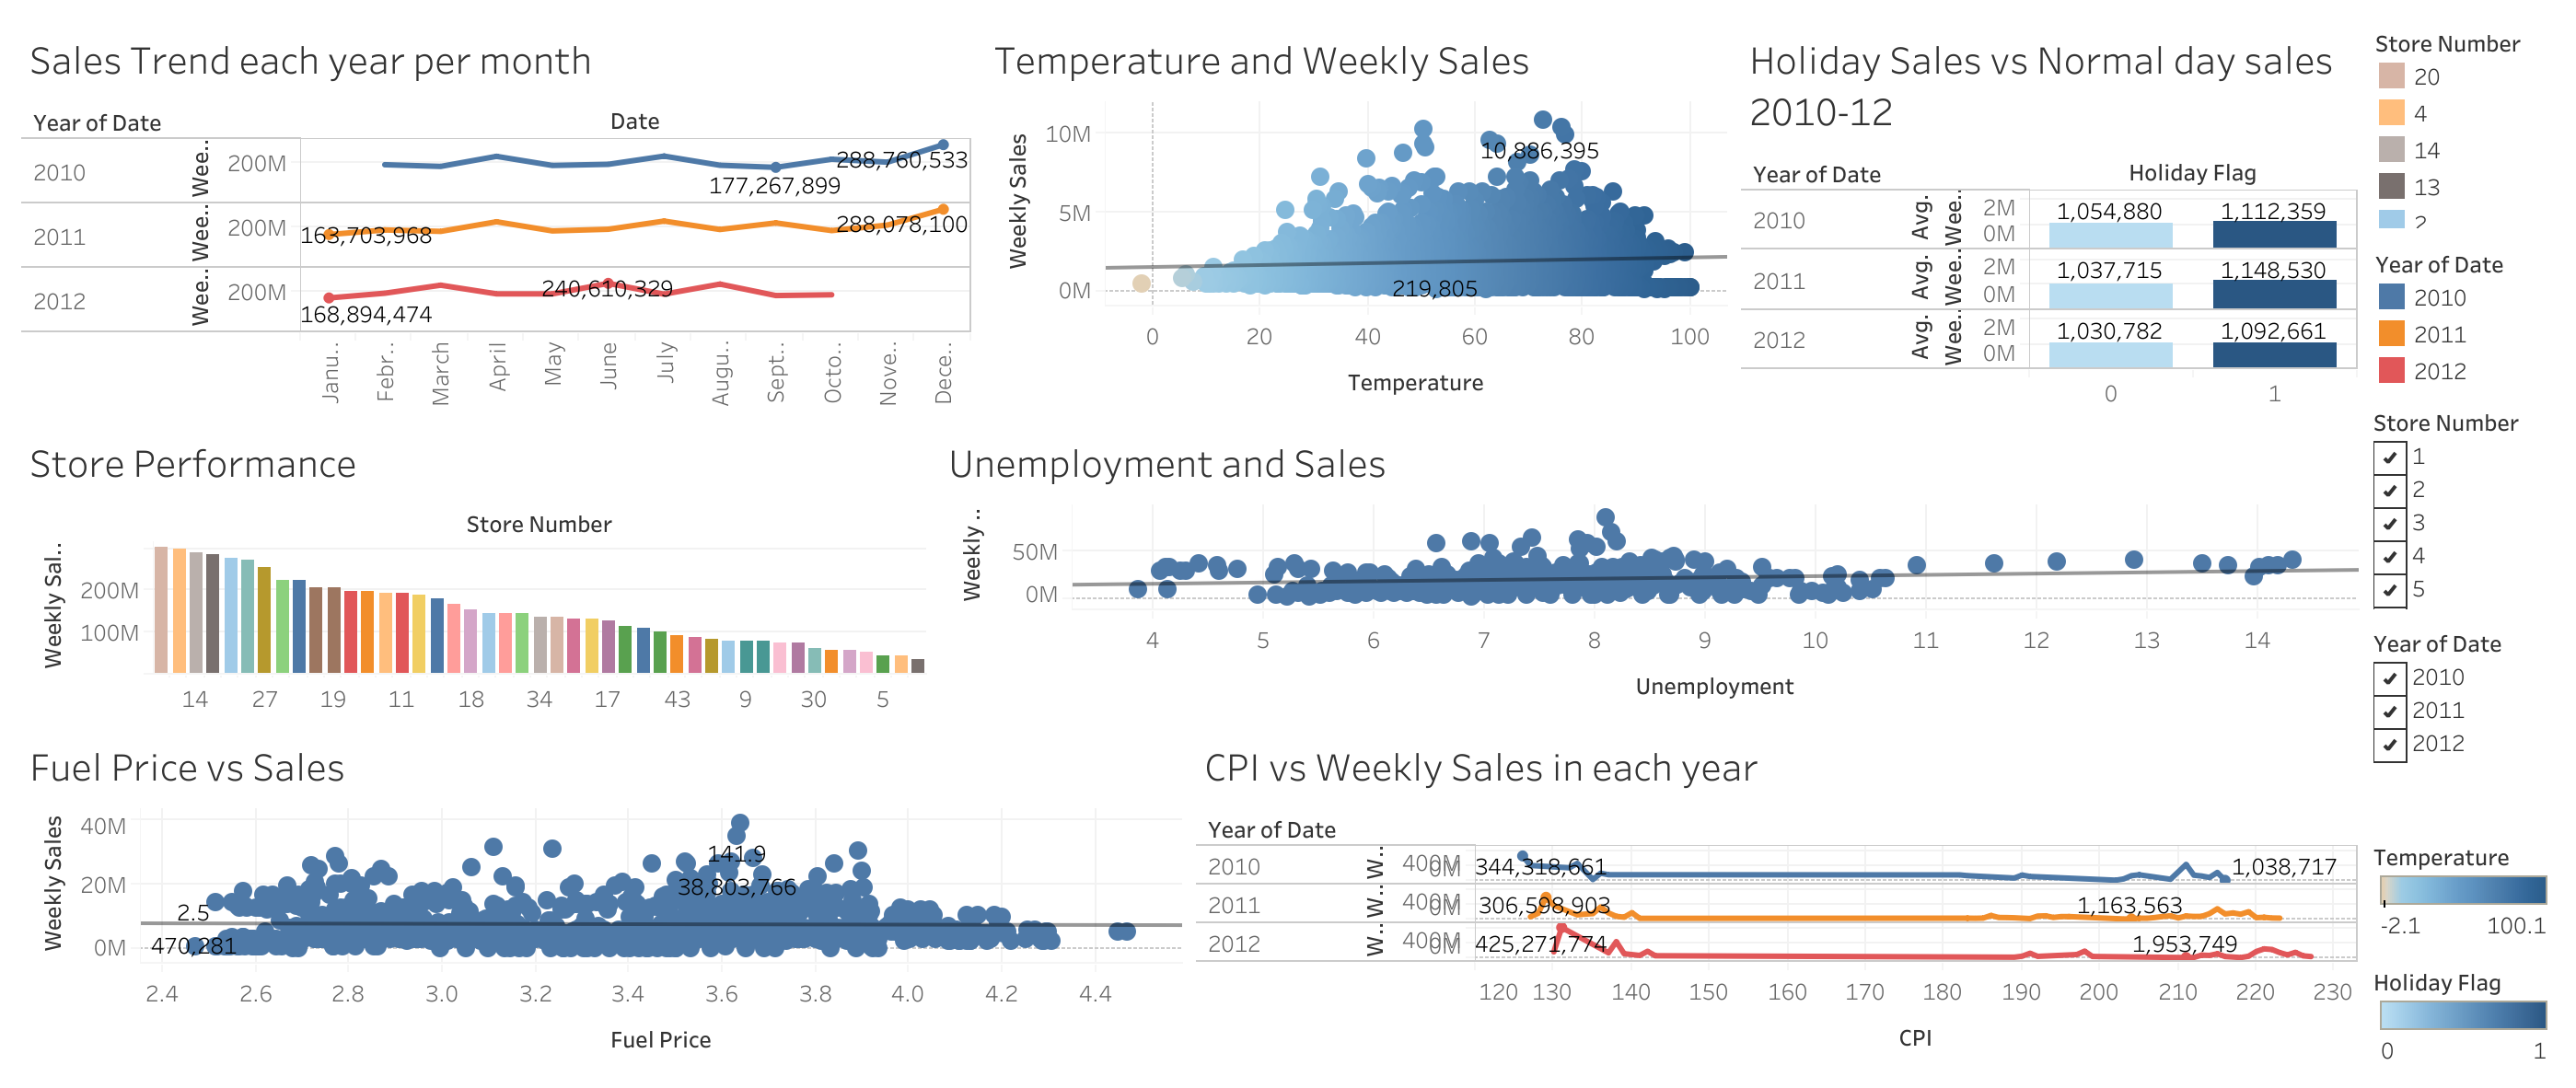

The dashboard page shown, as its layout file describes it:
{"tool":"tableau","page":{"name":"Dashboard 1","canvas":[1000,1000],"units":"permille","ordinal":0},"visuals":[{"type":"worksheet","title":"Sheet 8","mark":"Automatic","rows":["Date","Weekly_Sales"],"cols":["Date"],"box":[6.3,12.1,370.4,370.5]},{"type":"worksheet","title":"Sheet 2","mark":"Circle","rows":["Weekly_Sales"],"cols":["Temperature"],"box":[376.7,12.1,290,370.5]},{"type":"worksheet","title":"Sheet 6","mark":"Automatic","rows":["Date","Weekly_Sales"],"cols":["Holiday_Flag"],"box":[666.6,12.1,242.7,370.5]},{"type":"legend","title":"Sheet 1","param":"[federated.0yly5k71c3q7wb16ftr010r6j9m5].[none:Store_Number:ok]","box":[909.4,12.1,84.3,244]},{"type":"legend","title":"Sheet 8","param":"[federated.0yly5k71c3q7wb16ftr010r6j9m5].[yr:Date:ok]","box":[909.4,256,84.3,129.5]},{"type":"worksheet","title":"Sheet 1","mark":"Automatic","rows":["Weekly_Sales"],"cols":["Store_Number"],"box":[6.3,382.5,353,280.1]},{"type":"worksheet","title":"Sheet 9","mark":"Circle","rows":["Weekly_Sales"],"cols":["Unemployment"],"box":[359.3,382.5,550.1,280.1]},{"type":"filter","title":"Sheet 2","param":"[federated.0yly5k71c3q7wb16ftr010r6j9m5].[none:Store_Number:ok]","box":[909.4,385.5,84.3,244]},{"type":"filter","title":"Sheet 1","param":"[federated.0yly5k71c3q7wb16ftr010r6j9m5].[yr:Date:ok]","box":[909.4,629.5,84.3,162.7]},{"type":"worksheet","title":"Sheet 7","mark":"Circle","rows":["Weekly_Sales"],"cols":["Fuel_Price"],"box":[6.3,662.6,451.5,325.3]},{"type":"worksheet","title":"Sheet 5","mark":"Automatic","rows":["Date","Weekly_Sales"],"cols":["CPI"],"box":[457.8,662.6,451.6,325.3]},{"type":"legend","title":"Sheet 2","param":"[federated.0yly5k71c3q7wb16ftr010r6j9m5].[none:Temperature:qk]","box":[909.4,792.2,84.3,97.9]},{"type":"legend","title":"Sheet 6","param":"[federated.0yly5k71c3q7wb16ftr010r6j9m5].[none:Holiday_Flag:qk]","box":[909.4,890.1,84.3,97.9]}]}

Visuals, with their boxes on the dashboard's canvas, which has no fixed pixel size, in thousandths of its width and height (x1, y1, x2, y2). These are canvas units, not pixel positions in the 2576x1088 screenshot, which may show the page scaled, cropped or inside an application window:
"Sheet 8" worksheet: BBox(6, 12, 377, 383)
"Sheet 2" worksheet (Circle marks): BBox(377, 12, 667, 383)
"Sheet 6" worksheet: BBox(667, 12, 909, 383)
"Sheet 1" legend: BBox(909, 12, 994, 256)
"Sheet 8" legend: BBox(909, 256, 994, 386)
"Sheet 1" worksheet: BBox(6, 382, 359, 663)
"Sheet 9" worksheet (Circle marks): BBox(359, 382, 909, 663)
"Sheet 2" filter: BBox(909, 386, 994, 630)
"Sheet 1" filter: BBox(909, 630, 994, 792)
"Sheet 7" worksheet (Circle marks): BBox(6, 663, 458, 988)
"Sheet 5" worksheet: BBox(458, 663, 909, 988)
"Sheet 2" legend: BBox(909, 792, 994, 890)
"Sheet 6" legend: BBox(909, 890, 994, 988)
